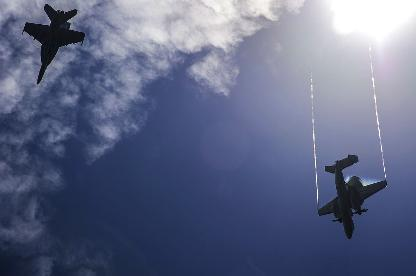C5: (318, 154, 386, 240)
F15: (21, 3, 85, 85)
